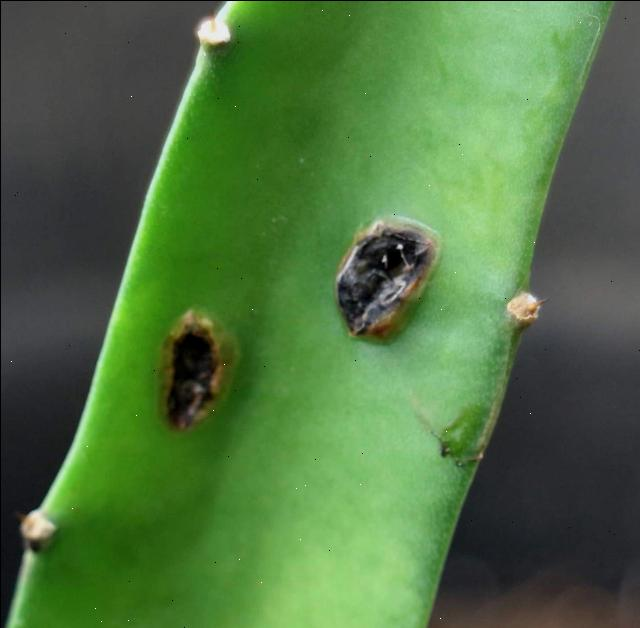stemcanker: (324, 211, 449, 353), (150, 304, 241, 438)
